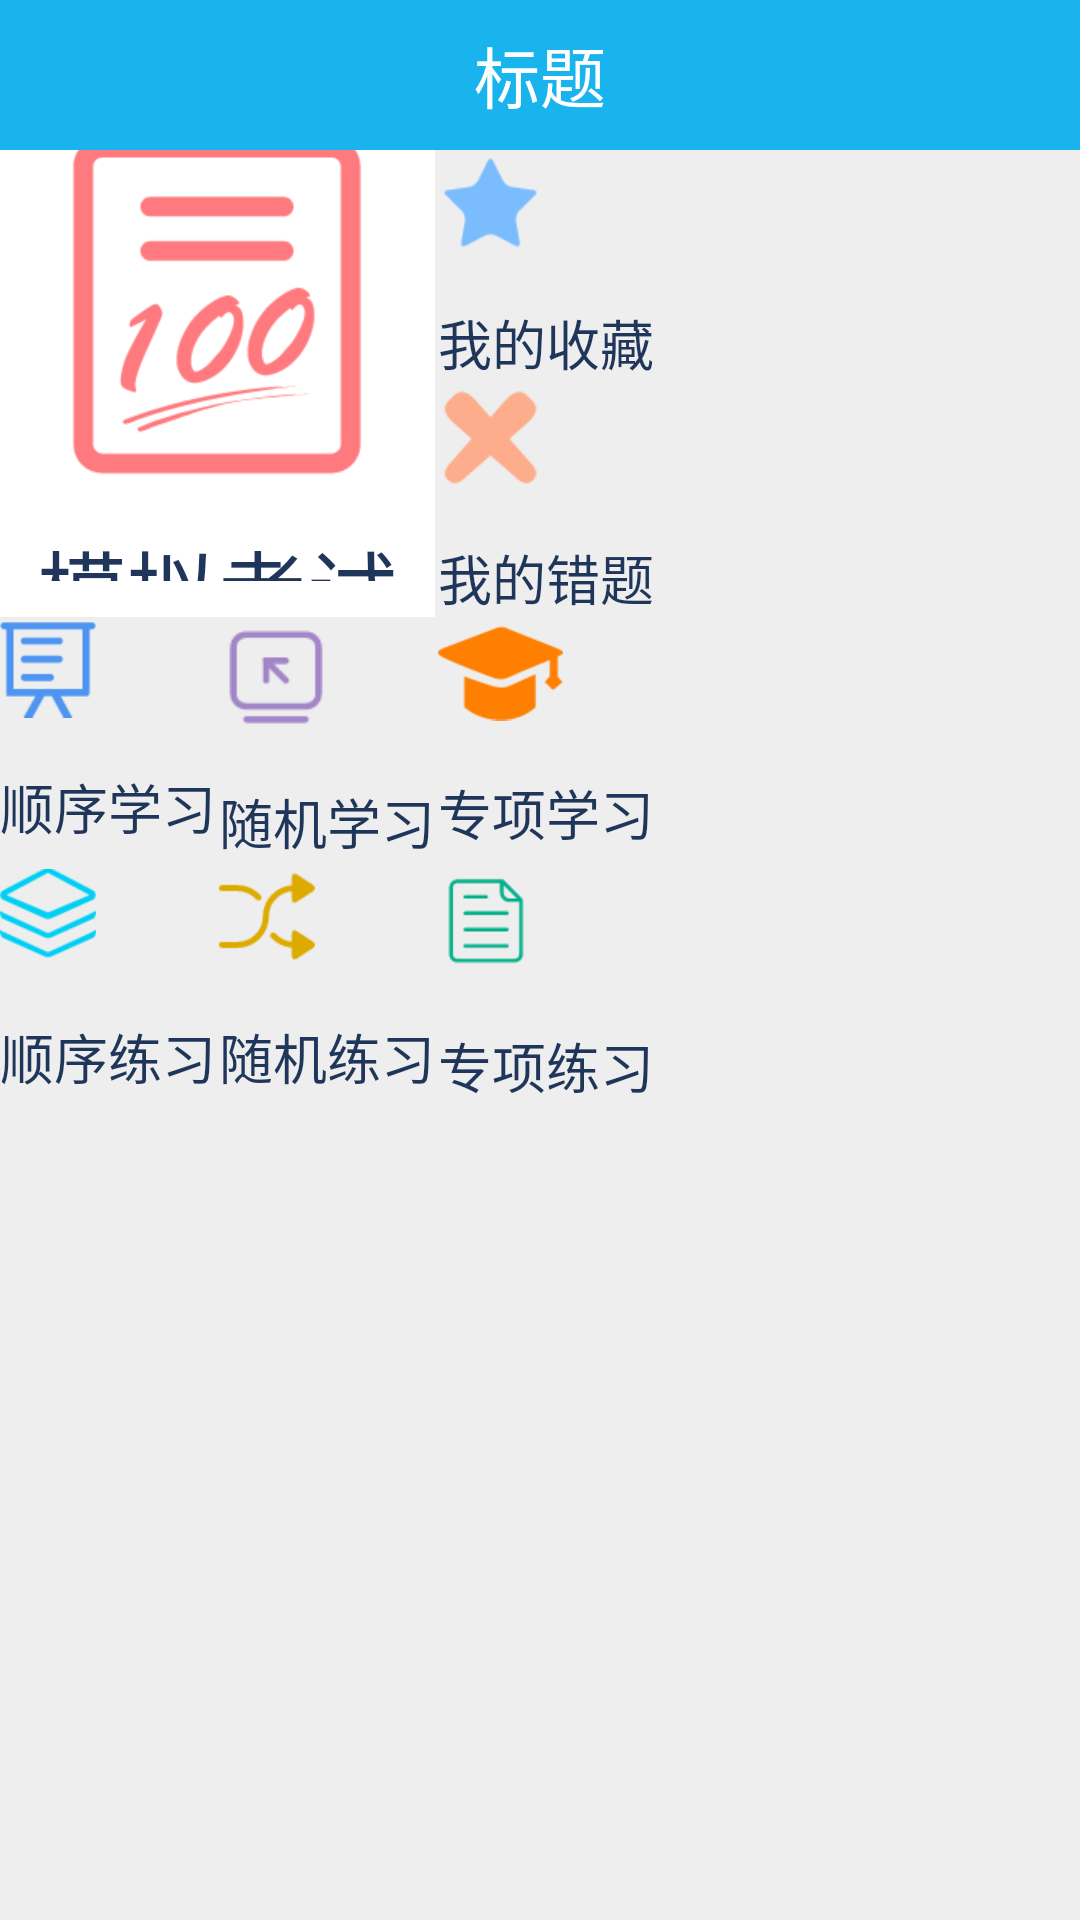

Screen size 1080w x 1920h. Icon name, then its center in pixels as (x,y):
collection: (490,202)
error: (490,437)
study in order: (48,670)
study in point: (500,673)
